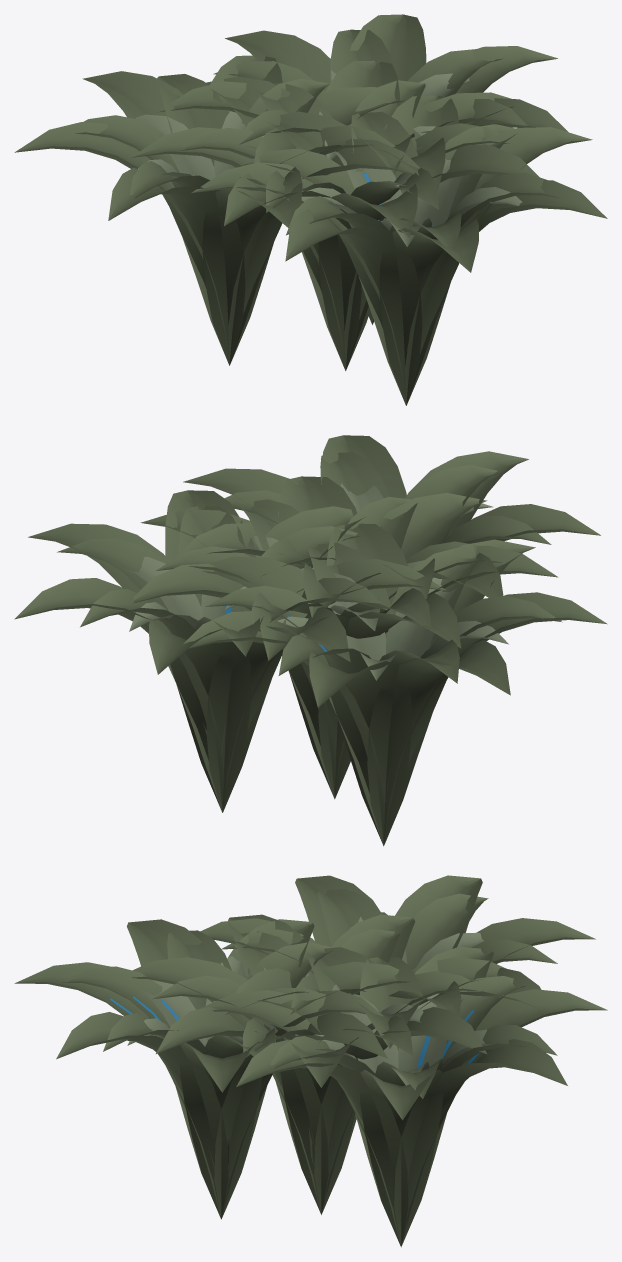
Rendered from blue-sheaths.glb.
3 renders of one model, top to bottom at view 1: azimuth 30°, elevation 25°; view 2: azimuth 150°, elevation 25°; view 3: azimuth 270°, elevation 25°, orthographic. The views are drawn at different scales.
Visible parts, largest first — view 1: LAND04 blue-sheaths; view 2: LAND04 blue-sheaths; view 3: LAND04 blue-sheaths.
Part boxes in pixels (<box>): LAND04 blue-sheaths: <box>14,14,607,405</box>; LAND04 blue-sheaths: <box>14,435,607,846</box>; LAND04 blue-sheaths: <box>14,875,607,1247</box>.
Bounding box in the file's own units: 2.97 × 1.33 × 3.07.
